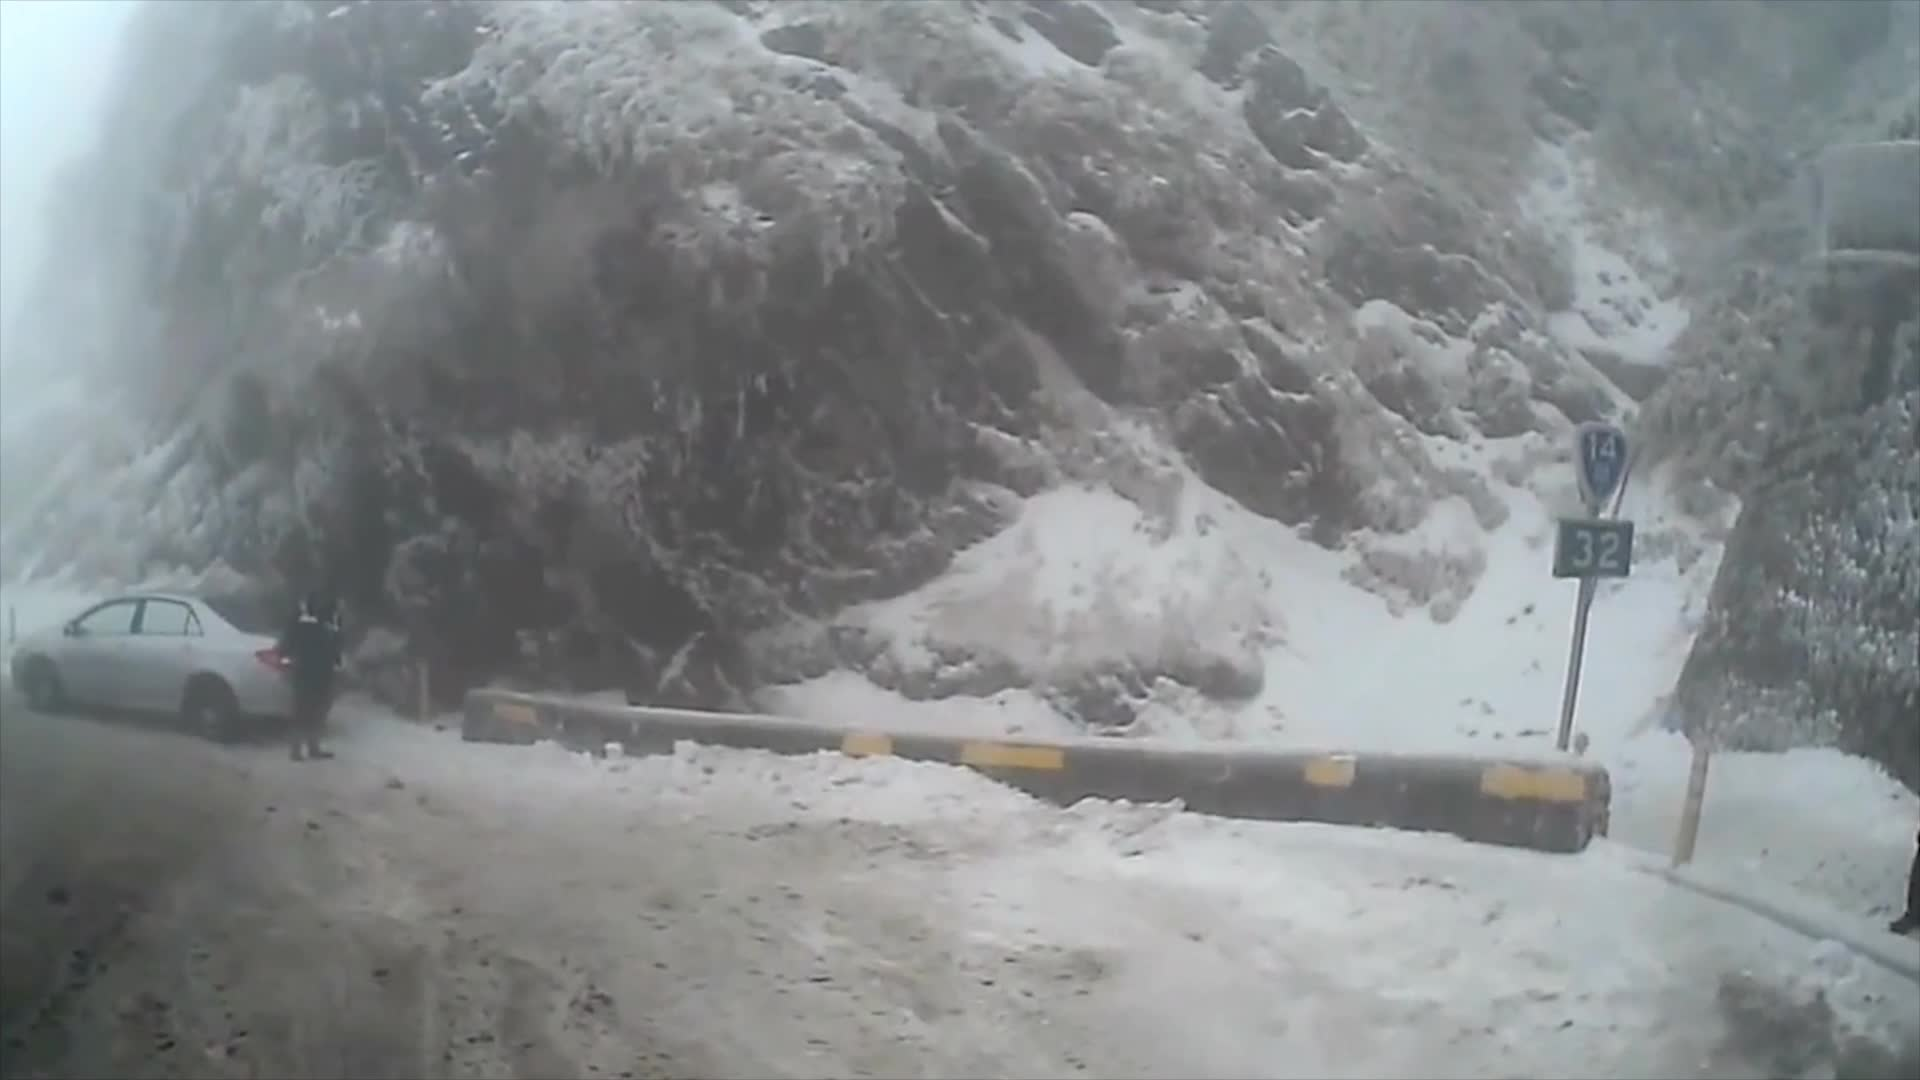pedestrian: (277, 576, 344, 763)
vehicle: (9, 583, 328, 738)
